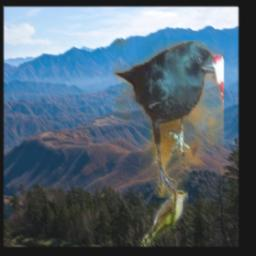Crow: (114, 40, 224, 198)
Cuckoo: (142, 190, 189, 247)
